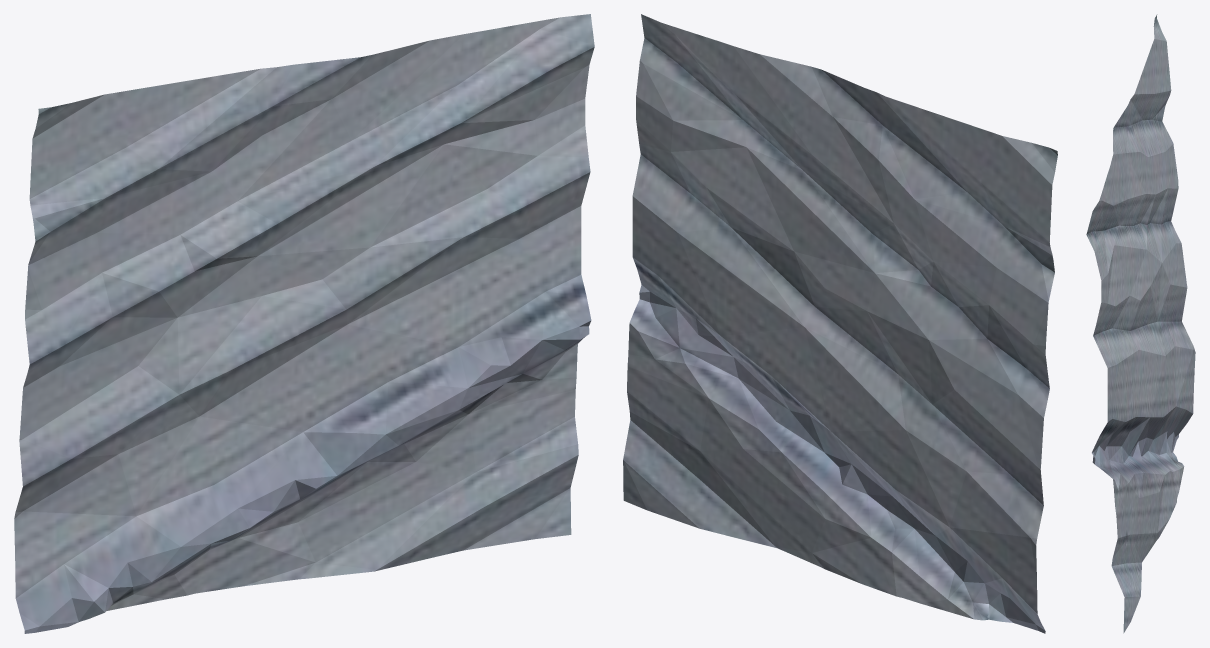
Rendered from Tile_+003_+008_L23_001320.obj.
3 renders of one model, left to right at view 1: azimuth 30°, elevation 25°; view 2: azimuth 150°, elevation 25°; view 3: azimuth 270°, elevation 25°, orthographic. The views are drawn at different scales.
Bounding box in the file's own units: 1.91 × 1.91 × 0.446.
Materials: 1 (1 with a texture image).
